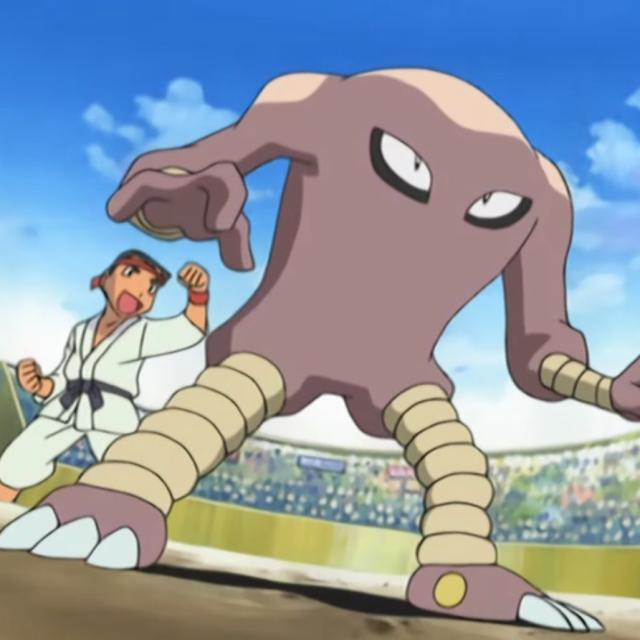Hitmonlee: (187, 68, 569, 458)
